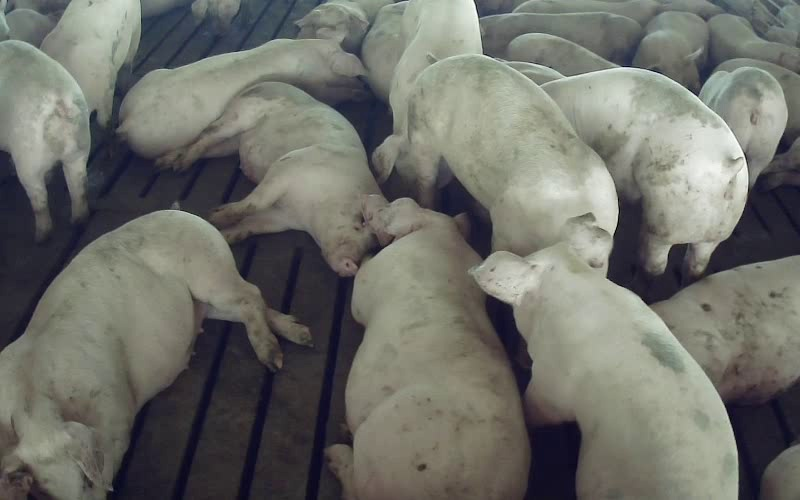pig: (0, 211, 310, 499), (471, 214, 736, 499), (325, 195, 528, 499), (158, 82, 379, 276), (408, 54, 617, 255), (117, 39, 364, 158), (651, 255, 799, 404), (40, 0, 140, 126), (699, 67, 787, 187), (479, 12, 641, 65), (632, 11, 708, 93), (707, 14, 799, 73)
